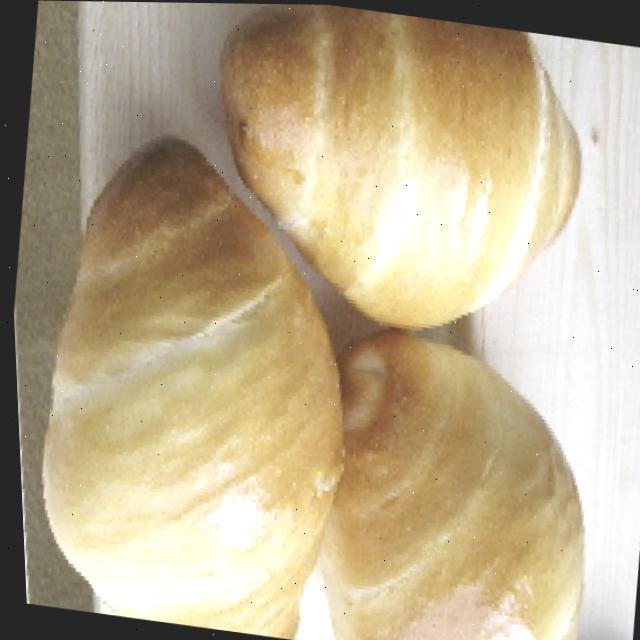面包点心: (1, 0, 640, 640)
